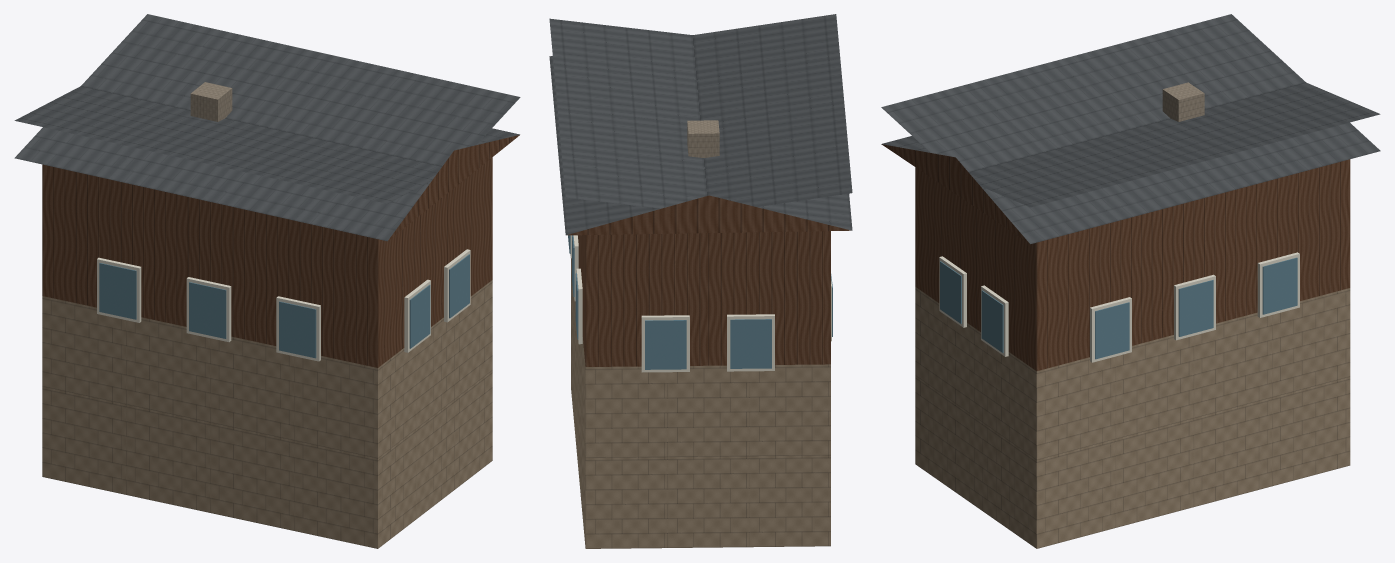
File: core_0148.gltf
3 renders of one model, left to right at view 1: azimuth 30°, elevation 25°; view 2: azimuth 150°, elevation 25°; view 3: azimuth 270°, elevation 25°, orthographic. The views are drawn at different scales.
Parts seen in each view (by area): view 1: core_0148; view 2: core_0148; view 3: core_0148.
Boxes of the visible parts, left/top/right/bottom form: core_0148: left=14, top=14, right=520, bottom=548; core_0148: left=549, top=14, right=852, bottom=548; core_0148: left=881, top=14, right=1380, bottom=548.
Size of the model in its own units: 11.28 by 9.75 by 12.31.
6 materials, 6 textured.
